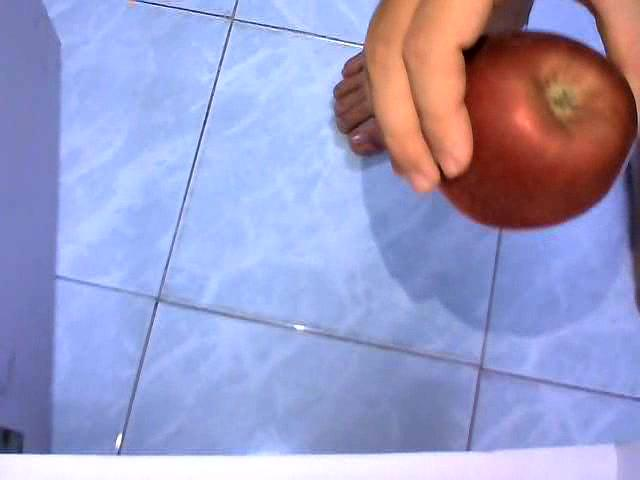apple: (433, 30, 635, 231)
